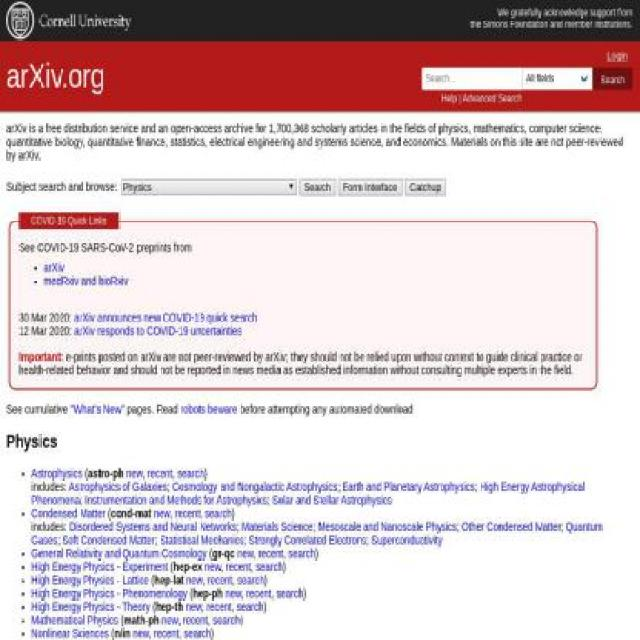button: (592, 67, 633, 90)
field: (119, 179, 298, 196), (421, 67, 530, 90), (521, 67, 593, 90), (338, 178, 402, 197), (405, 178, 446, 197), (298, 178, 336, 197)
